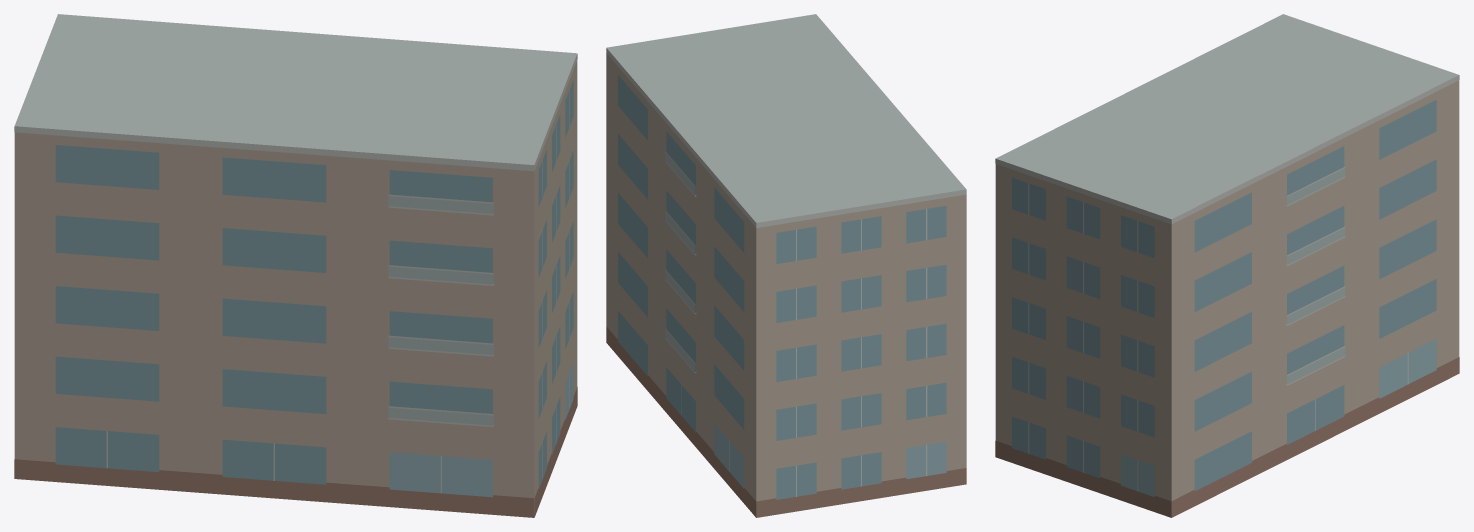
File: survey-upis-32707065.glb
3 renders of one model, left to right at view 1: azimuth 30°, elevation 25°; view 2: azimuth 150°, elevation 25°; view 3: azimuth 270°, elevation 25°, orthographic. The views are drawn at different scales.
Visible parts, largest first — view 1: survey-upis-32707065.tmp; view 2: survey-upis-32707065.tmp; view 3: survey-upis-32707065.tmp.
Part boxes in pixels (x1,y1,x2,y2): survey-upis-32707065.tmp: (14,14,577,517); survey-upis-32707065.tmp: (606,14,966,517); survey-upis-32707065.tmp: (995,14,1459,517).
Size of the model in its own units: 20.8 by 14.1 by 19.86.
